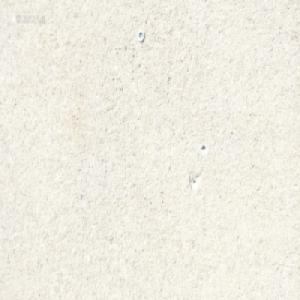Washer: (137, 29, 144, 42)
